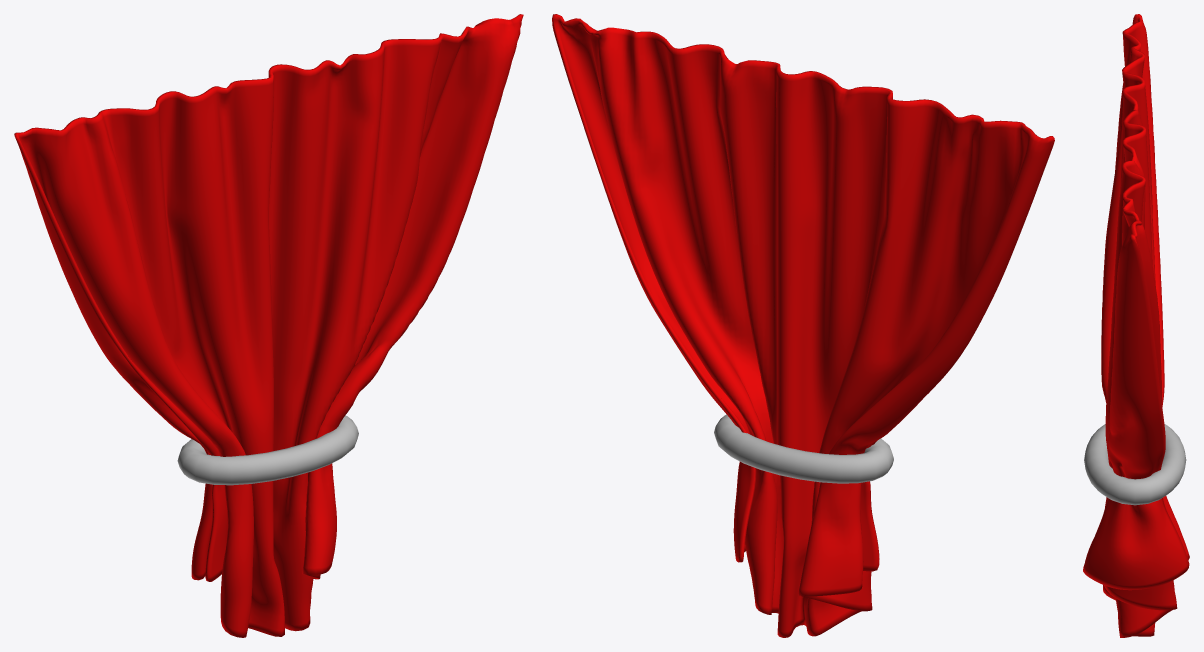
The model's file is Rideau sérré.fbx.
3 renders of one model, left to right at view 1: azimuth 30°, elevation 25°; view 2: azimuth 150°, elevation 25°; view 3: azimuth 270°, elevation 25°, orthographic. The views are drawn at different scales.
Visible parts, largest first — view 1: Plane.011; view 2: Plane.011; view 3: Plane.011.
Boxes of the visible parts, <box> form: Plane.011: <box>14,14,523,637</box>; Plane.011: <box>552,14,1054,637</box>; Plane.011: <box>1083,14,1189,637</box>.
Size of the model in its own units: 383 by 407 by 77.8.
